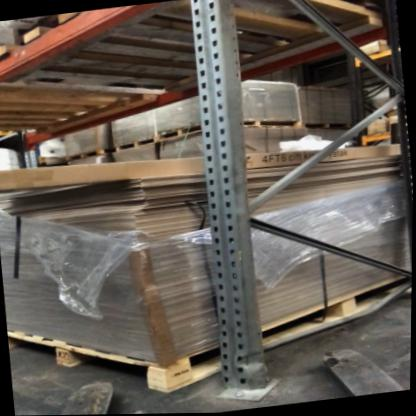vertical_damage: (212, 339, 290, 403)
